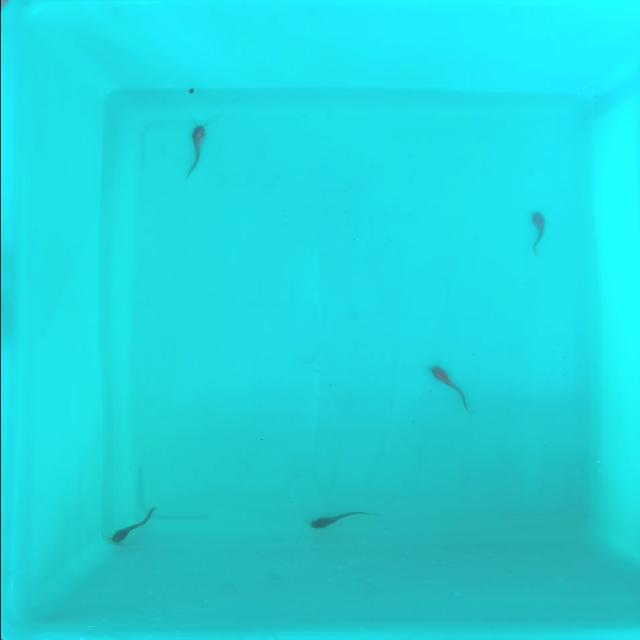lele: (427, 364, 476, 416), (108, 502, 162, 545), (307, 510, 372, 530), (182, 124, 205, 180), (526, 210, 544, 257)
